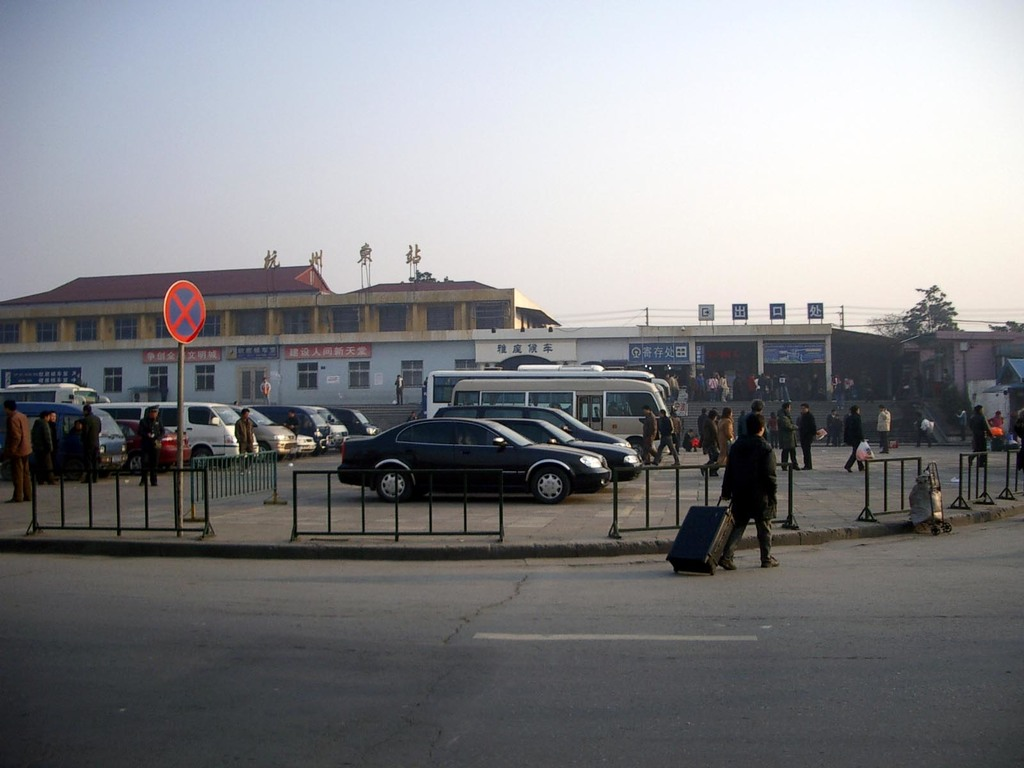Car: (0, 373, 645, 512)
